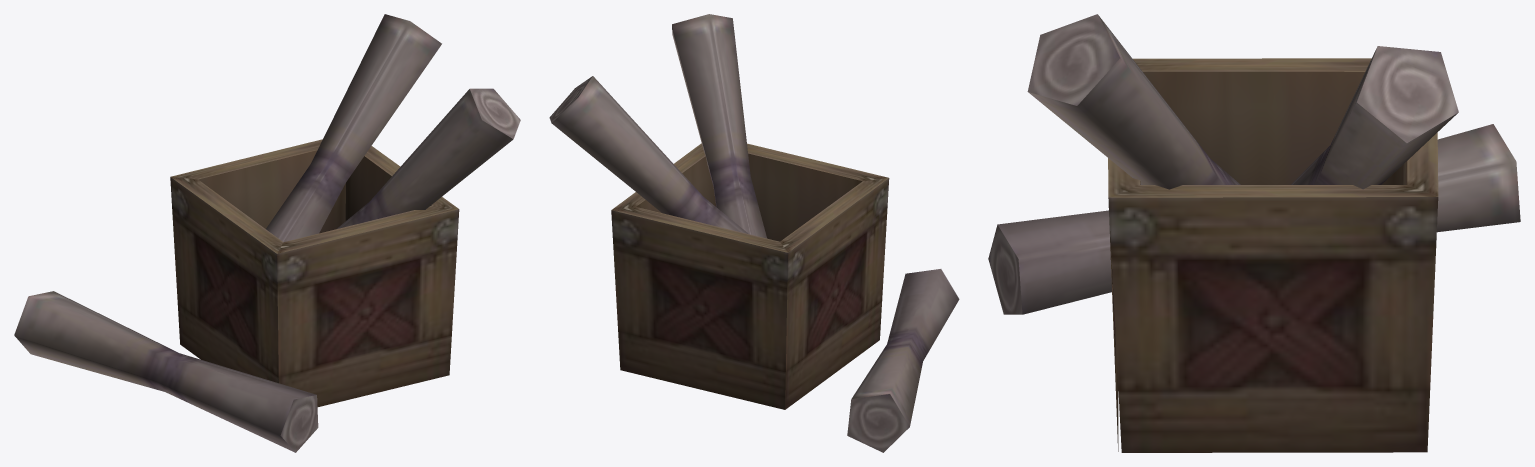
File: SD_xiangzi01.FBX
The picture shows the model from 3 angles, left to right: view 1: azimuth 30°, elevation 25°; view 2: azimuth 150°, elevation 25°; view 3: azimuth 270°, elevation 25°; orthographic projection. The views are drawn at different scales.
Parts seen in each view (by area): view 1: SD_xiangzi01; view 2: SD_xiangzi01; view 3: SD_xiangzi01.
Boxes of the visible parts, x1=… form: SD_xiangzi01: x1=14, y1=14, x2=520, y2=452; SD_xiangzi01: x1=549, y1=14, x2=959, y2=452; SD_xiangzi01: x1=988, y1=14, x2=1520, y2=452.
Size of the model in its own units: 71.87 by 50.48 by 53.45.
Materials: 1 (1 with a texture image).
